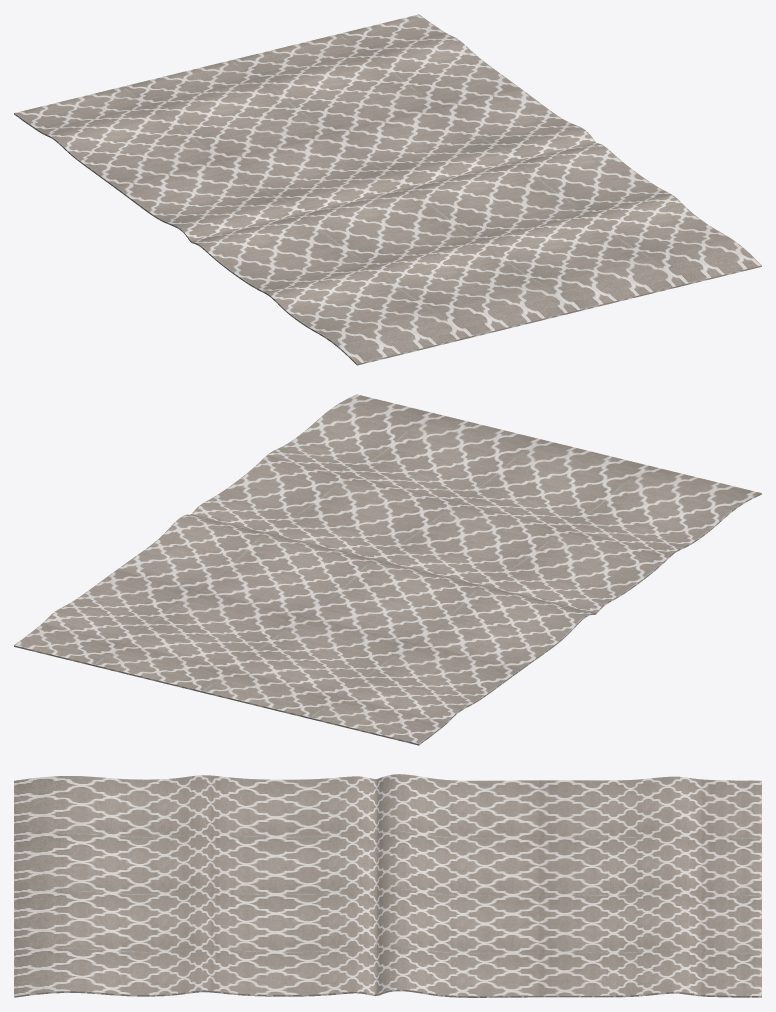
File: Carpet.glb
The picture shows the model from 3 angles, top to bottom: view 1: azimuth 30°, elevation 25°; view 2: azimuth 150°, elevation 25°; view 3: azimuth 270°, elevation 25°; orthographic projection. The views are drawn at different scales.
Parts seen in each view (by area): view 1: (1); view 2: (1); view 3: (1).
Boxes of the visible parts, x1,y1,x2,y2 form: (1): (14,14,761,365); (1): (14,394,761,745); (1): (14,774,761,997).
Bounding box in the file's own units: 1.5 × 0.0268 × 2.2.
1 material, 1 textured.
